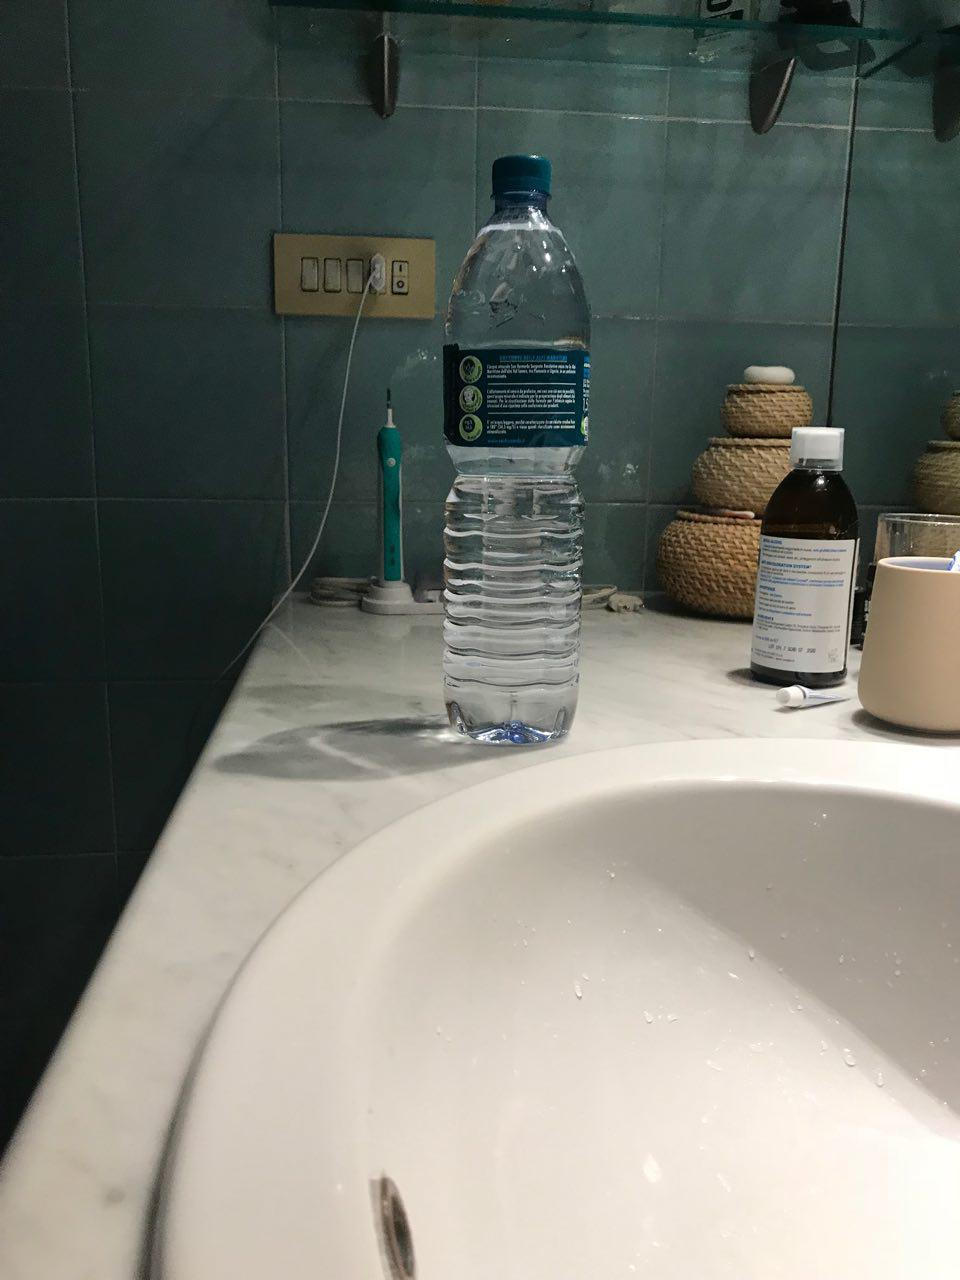san_bernardo: (441, 151, 591, 745)
